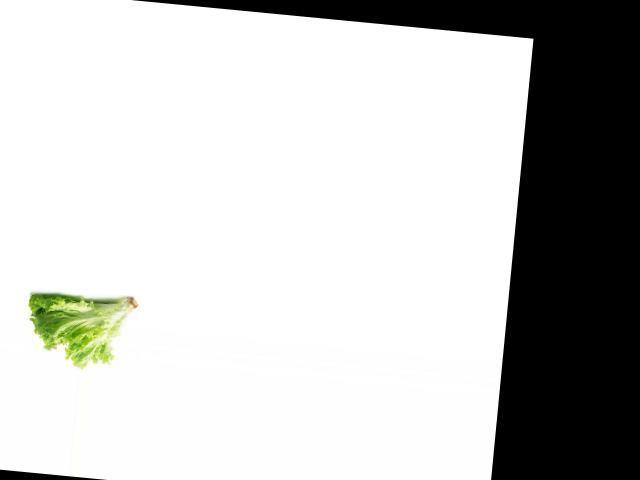lettuce: (23, 285, 141, 374)
